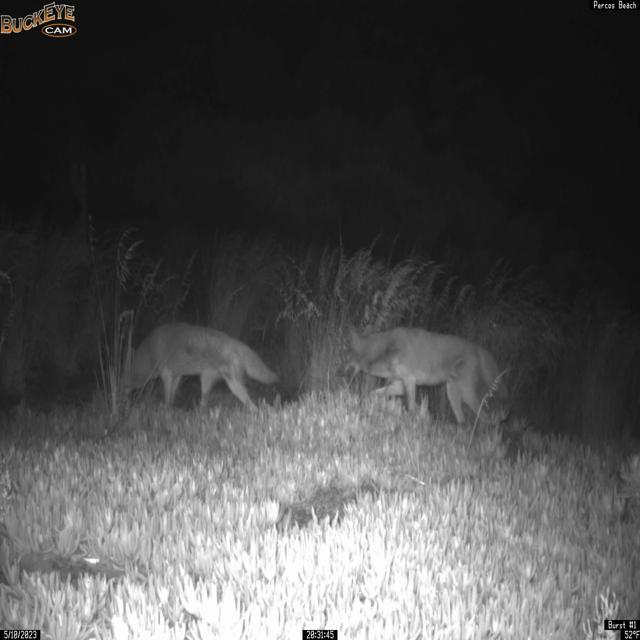coyote: (118, 321, 281, 415)
